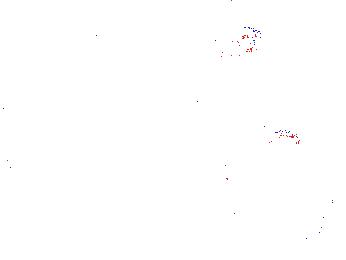X-ray fish: (202, 14, 270, 56)
glassfish: (206, 128, 274, 185), (124, 195, 167, 225)
red belly glassfish: (254, 124, 300, 147)
